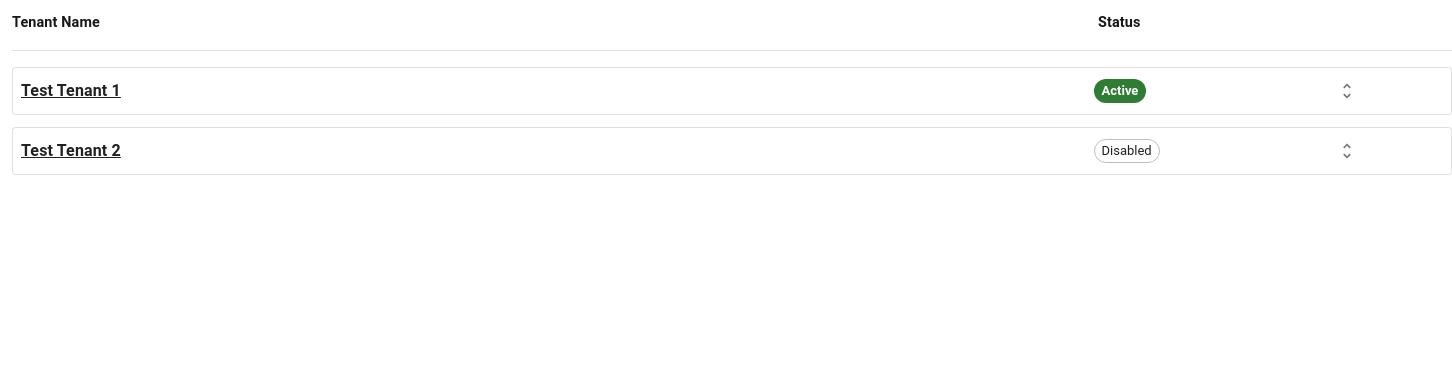
Test: TenantResultList Component › Expand/Collapse Functionality (Medium Screen) › should expand details when unfold icon is clicked
What coordinates should you click on to do the following:
click the button with test id "UnfoldMoreOutlinedIcon"
I would click on:
 (1347, 91)
Its box is [1332,76,1362,106].
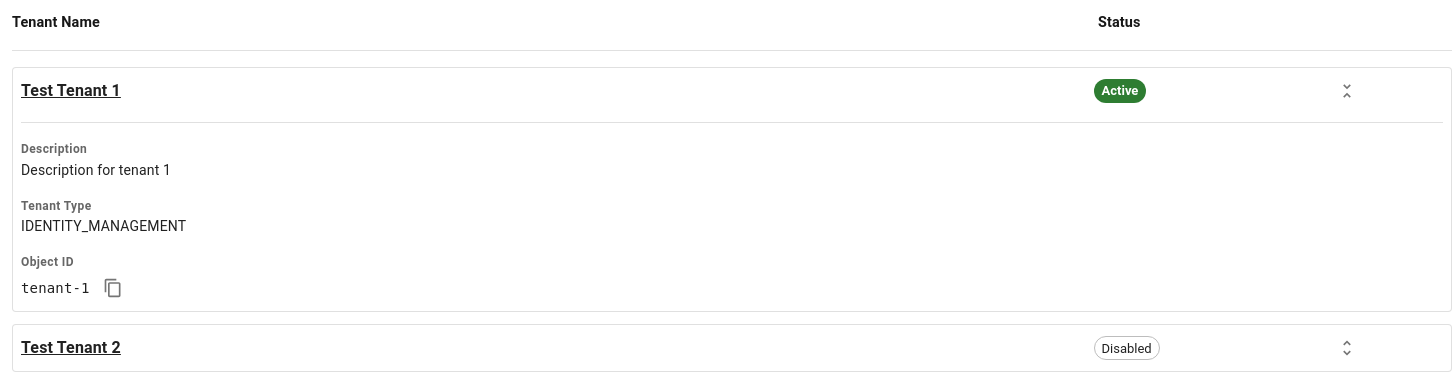
Expected: the text "Description" is shown, [21,142,87,156]
Expected: the text "Tenant Type" is shown, [21,198,92,212]
Expected: the text "Object ID" is shown, [21,256,74,270]
